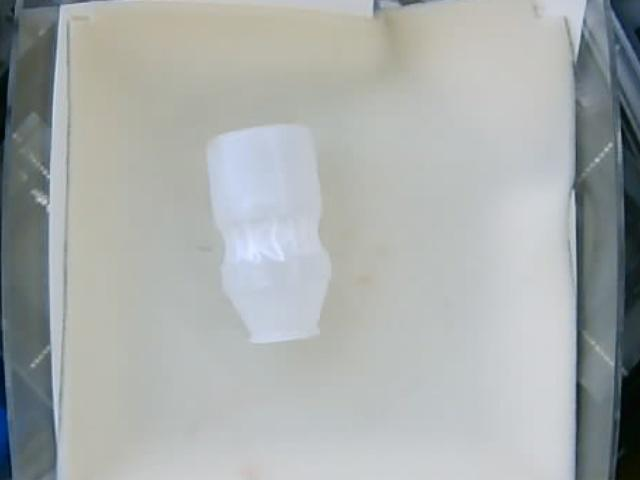Bottle: (205, 122, 331, 341)
